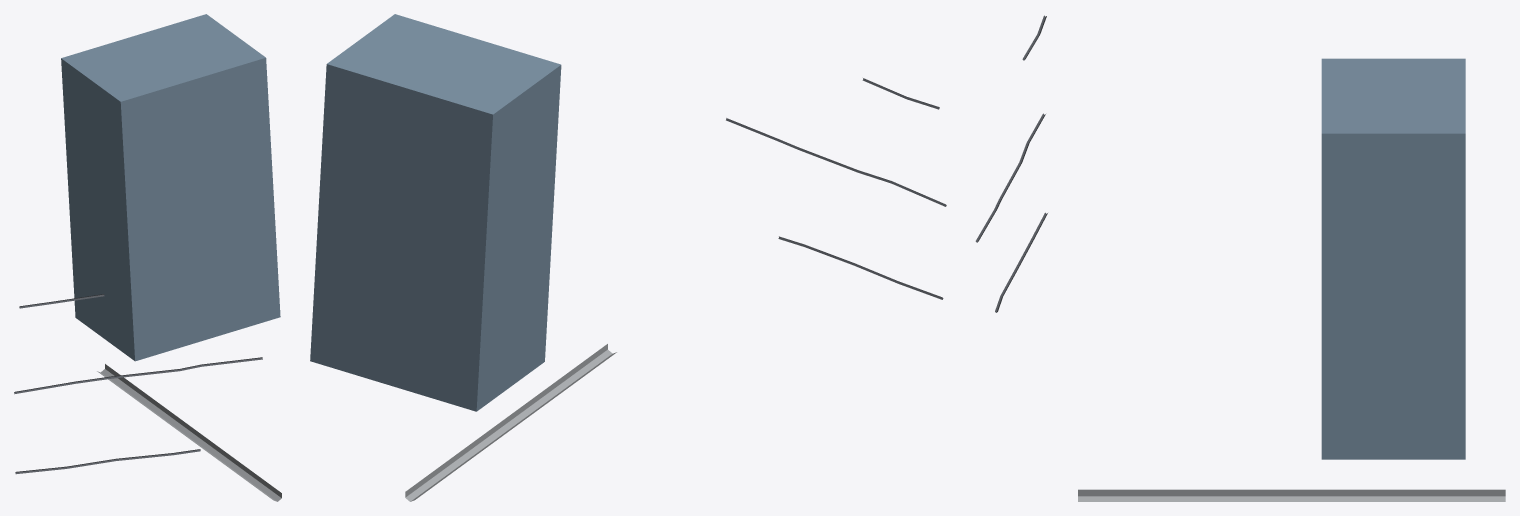
File: white_river_transformer_model.glb
3 views of the same model, side by side, from view 1: azimuth 30°, elevation 25°; view 2: azimuth 150°, elevation 25°; view 3: azimuth 270°, elevation 25° (orthographic). The views are drawn at different scales.
Parts seen in each view (by area): view 1: transformer_block, legs, wires; view 2: transformer_block, legs, wires; view 3: transformer_block, legs, wires.
Boxes of the visible parts, x1,y1,x2,y2 form: transformer_block: (61, 14, 280, 361); legs: (97, 364, 281, 501); wires: (14, 294, 262, 474); transformer_block: (310, 14, 561, 411); legs: (405, 344, 616, 501); wires: (726, 78, 946, 299); transformer_block: (1321, 58, 1465, 459); legs: (1078, 489, 1505, 501); wires: (975, 15, 1047, 312).
Size of the model in its own units: 16.99 by 14.85 by 16.95.
